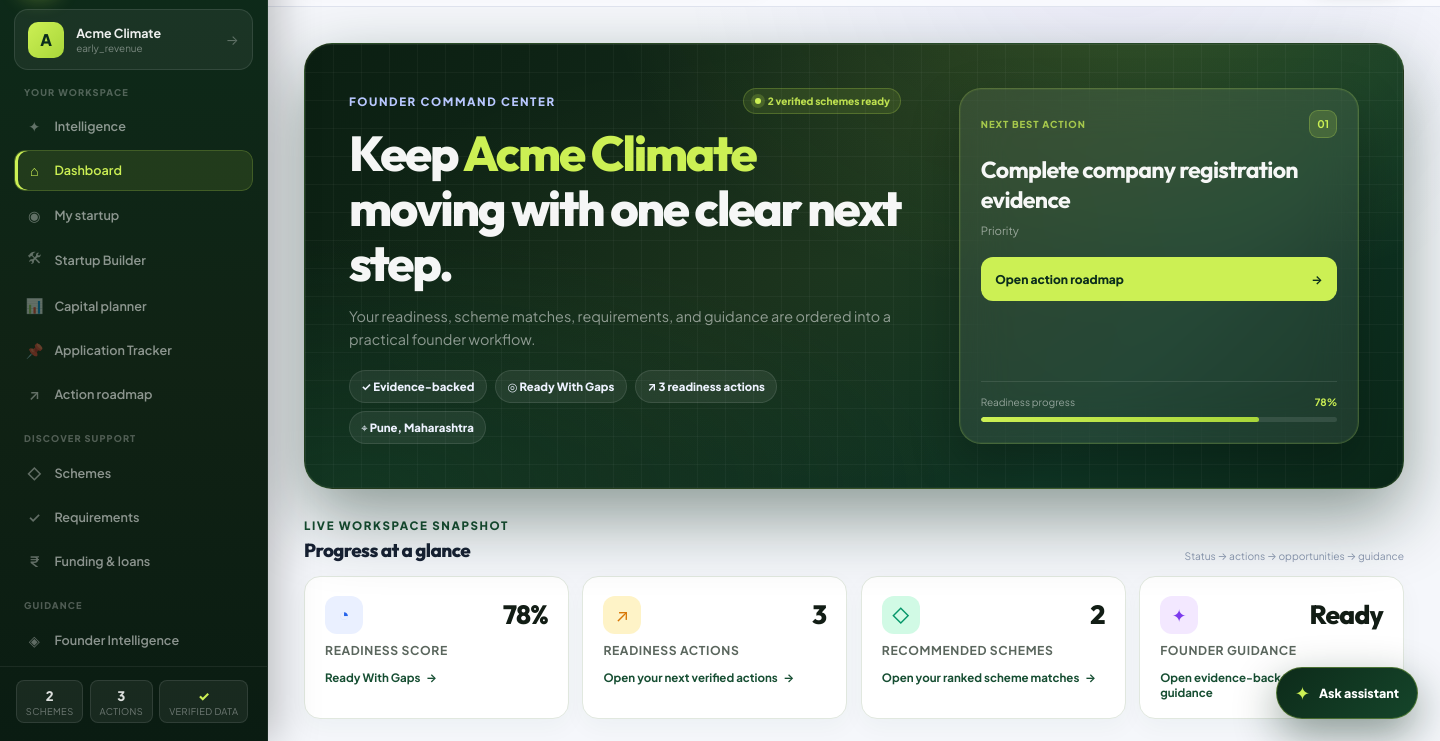
Test case: functional user dashboard › shows external certification records separately from verified requirements
Click the link "✓ Requirements": (84, 517) x1=28 y1=508 x2=140 y2=526
(page scrolled)
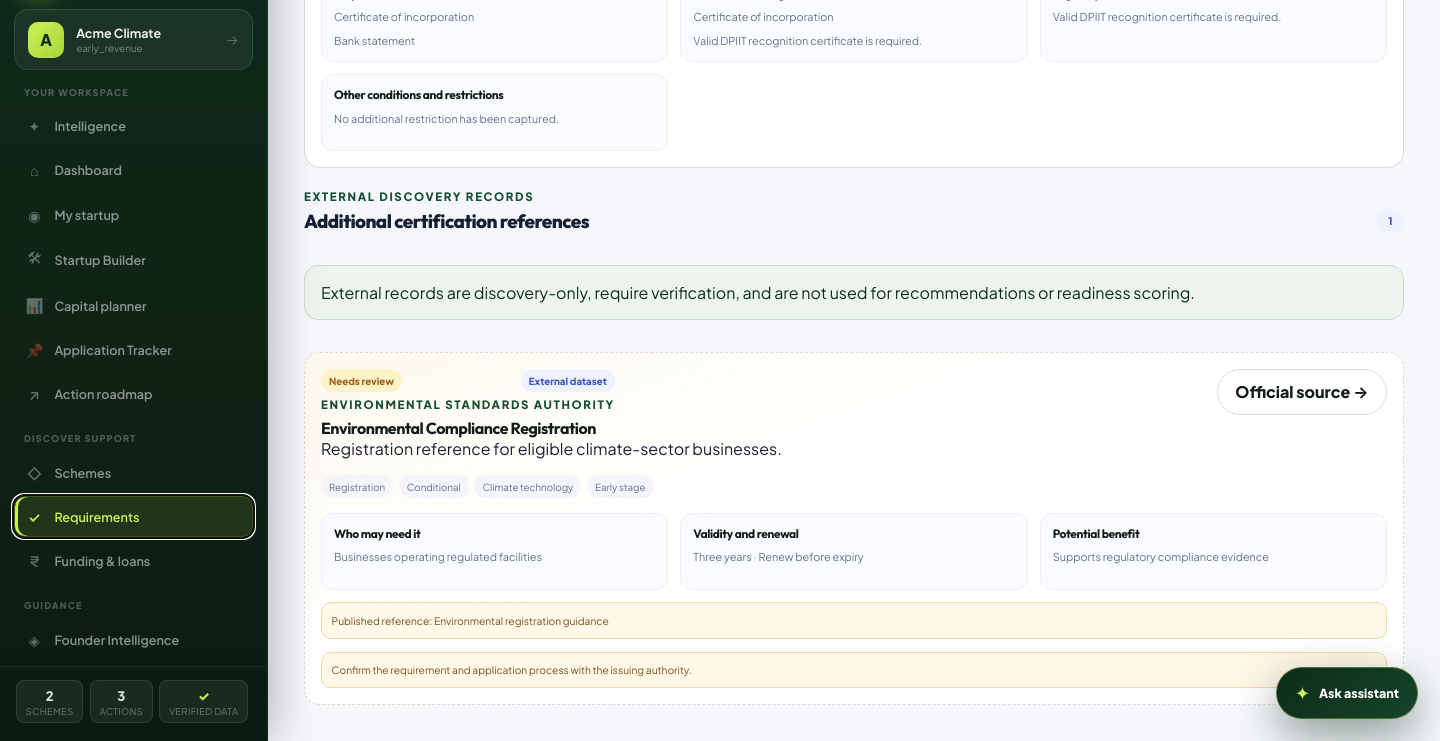
Result: the element named "Environmental Compliance Registration" is shown at x1=304 y1=352 x2=1404 y2=705
Result: the text "Needs review" is shown at x1=321 y1=369 x2=402 y2=392
Result: the text "External dataset" is shown at x1=521 y1=369 x2=615 y2=392
